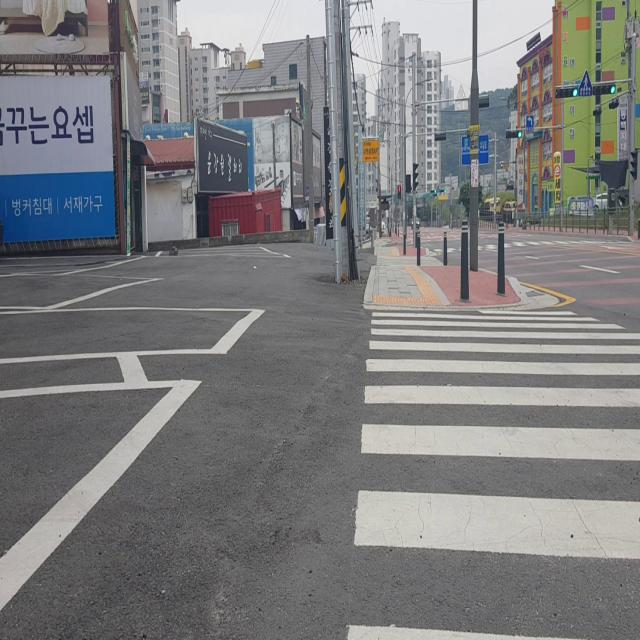횡단보도: (343, 305, 640, 637), (430, 238, 629, 256)
